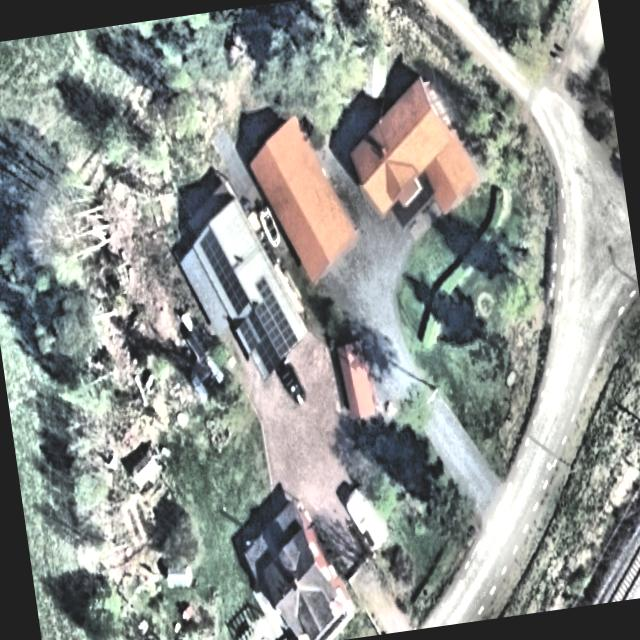roof_pv: (198, 222, 251, 322), (250, 275, 300, 364)
